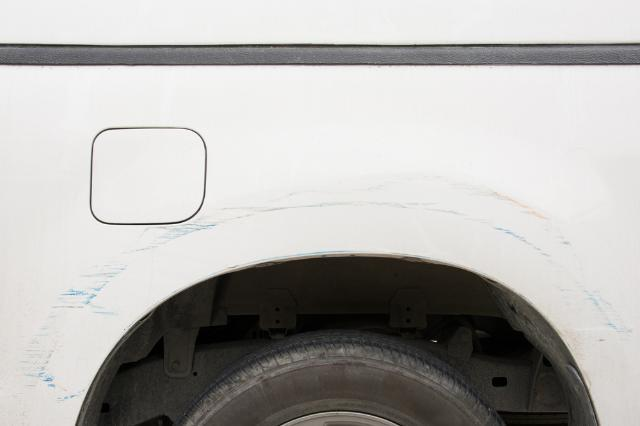scratch: (13, 175, 640, 403)
